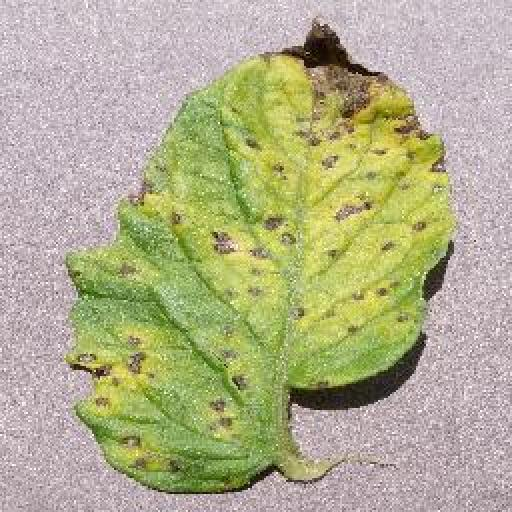disease_tomato: (58, 18, 458, 494)
